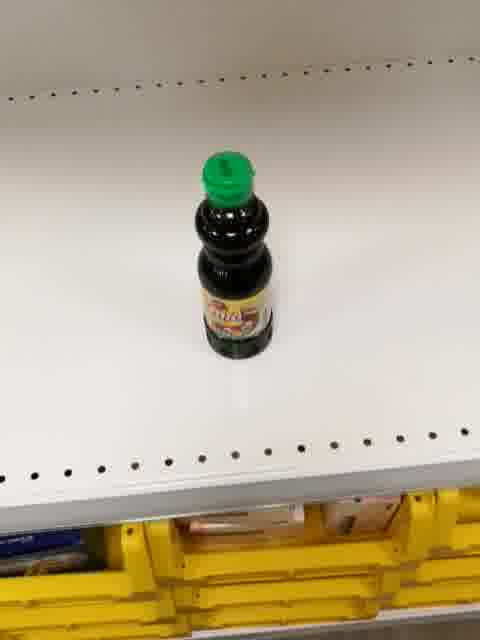cookingoil: (189, 149, 275, 361)
